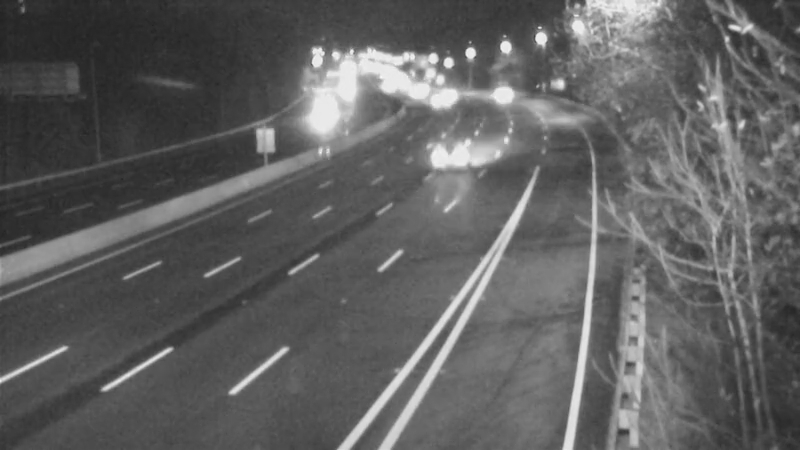vehicle: (412, 112, 492, 192), (479, 68, 529, 118), (409, 75, 459, 125), (297, 87, 347, 137)
